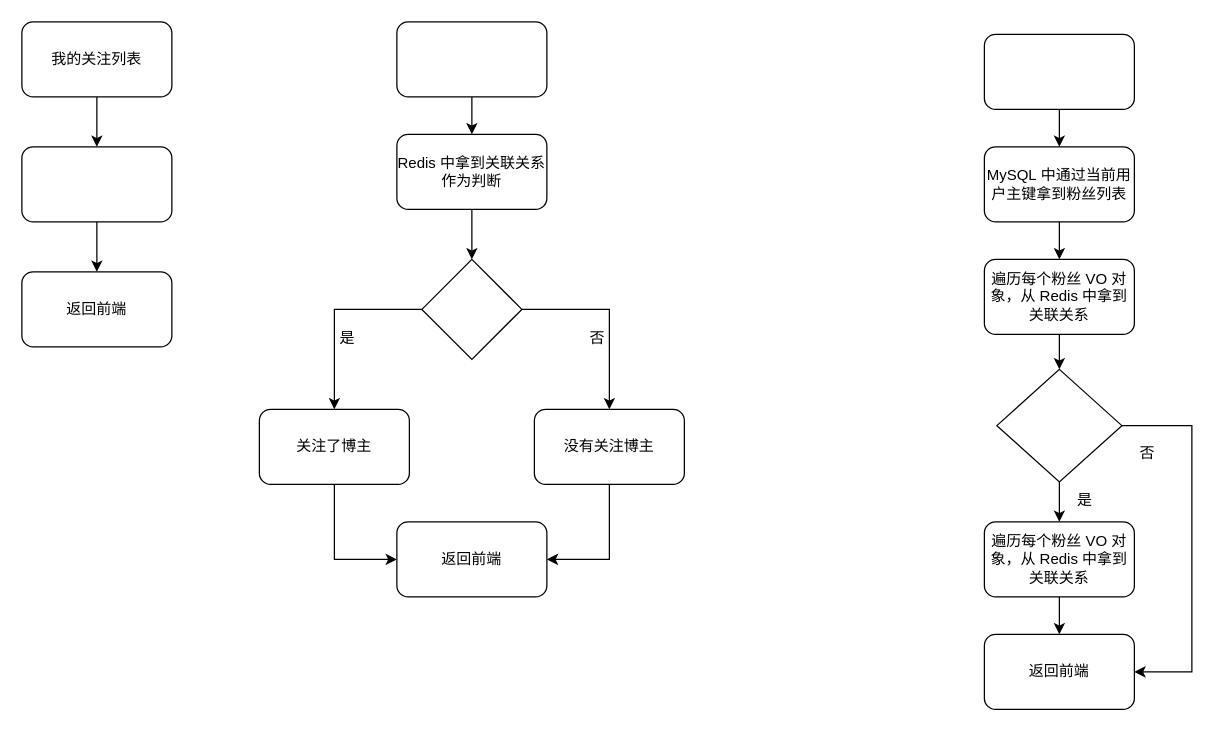
This 1224x731 diagram has some shape labels left out. The shapes that lost their labels are listed below. From the top down, each one's centre as x and y in pixels, then its label:
(x=471, y=59): 判断用户是否关注博主
(x=1058, y=71): 我的粉丝列表
(x=96, y=184): MySQL 中通过当前用户主键拿到关注列表
(x=471, y=308): 关联关系 不为空
(x=1059, y=425): 我是否关注 了该粉丝
